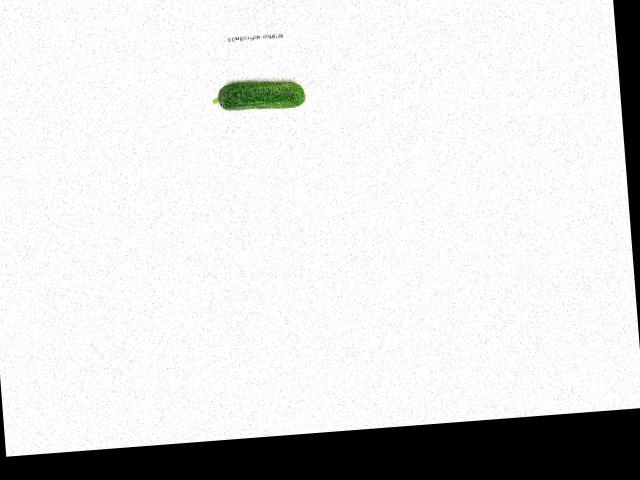cucumber: (211, 77, 307, 113)
